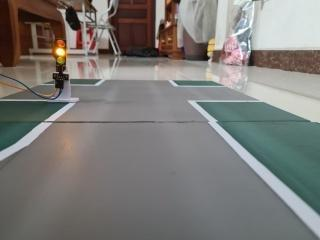yellow: (48, 35, 74, 74)
